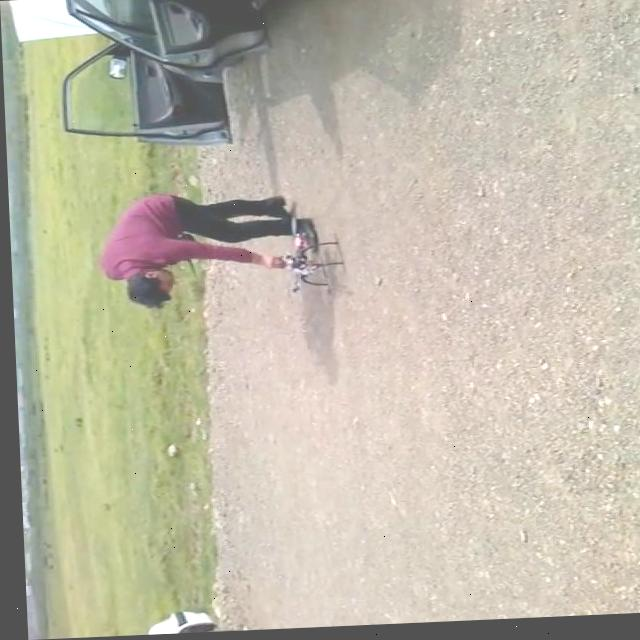drone: (275, 217, 339, 297)
